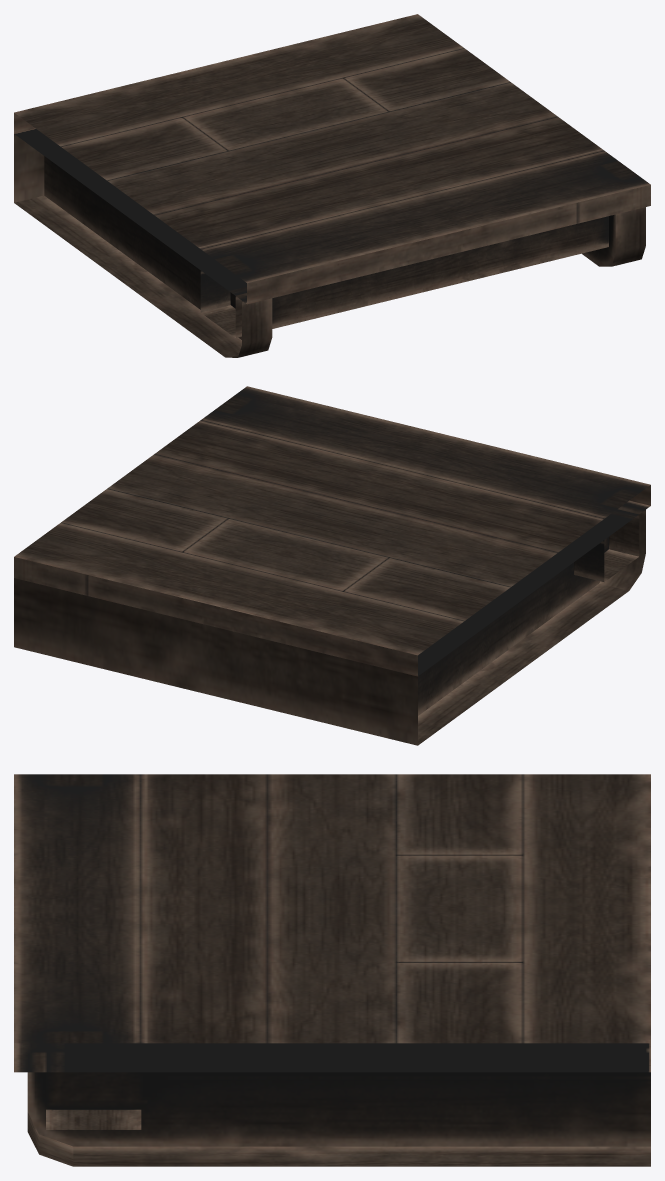
Rendered from Balcony.fbx.
3 renders of one model, top to bottom at view 1: azimuth 30°, elevation 25°; view 2: azimuth 150°, elevation 25°; view 3: azimuth 270°, elevation 25°, orthographic. The views are drawn at different scales.
Parts seen in each view (by area): view 1: Balcony; view 2: Balcony; view 3: Balcony.
Boxes of the visible parts, x1=… form: Balcony: x1=14, y1=14, x2=650, y2=357; Balcony: x1=14, y1=386, x2=650, y2=745; Balcony: x1=14, y1=774, x2=650, y2=1166.
Size of the model in its own units: 2 by 0.4275 by 2.
